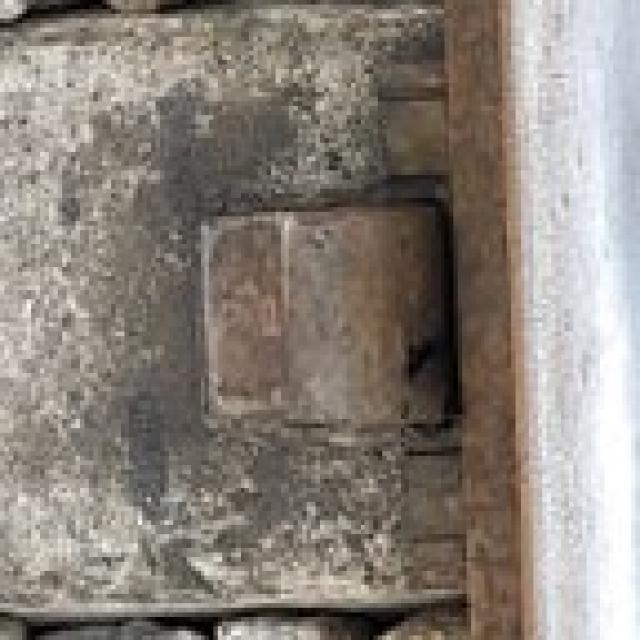track_bolt_missing: (264, 195, 456, 435)
